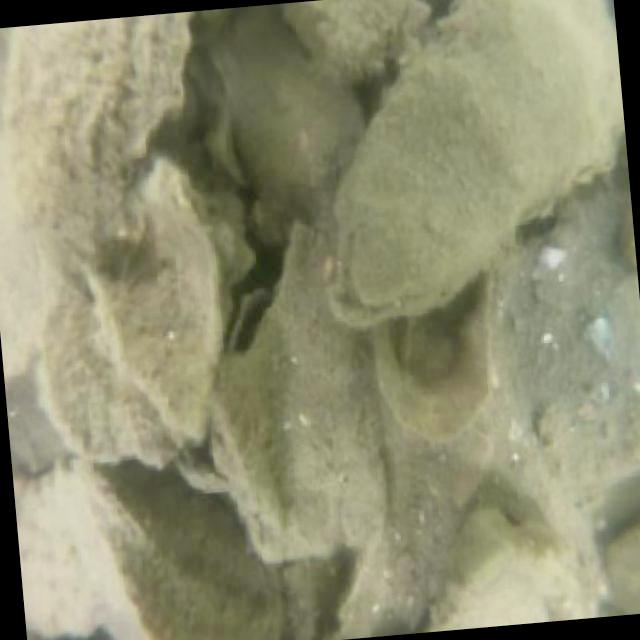Oyster-Closed: (326, 0, 594, 320), (212, 221, 388, 558), (89, 155, 250, 485), (5, 9, 205, 264), (487, 186, 640, 494), (76, 462, 290, 640), (35, 252, 199, 476), (210, 8, 357, 201), (17, 479, 127, 640), (214, 358, 283, 527), (0, 173, 52, 385), (282, 0, 413, 79), (605, 512, 640, 612)
